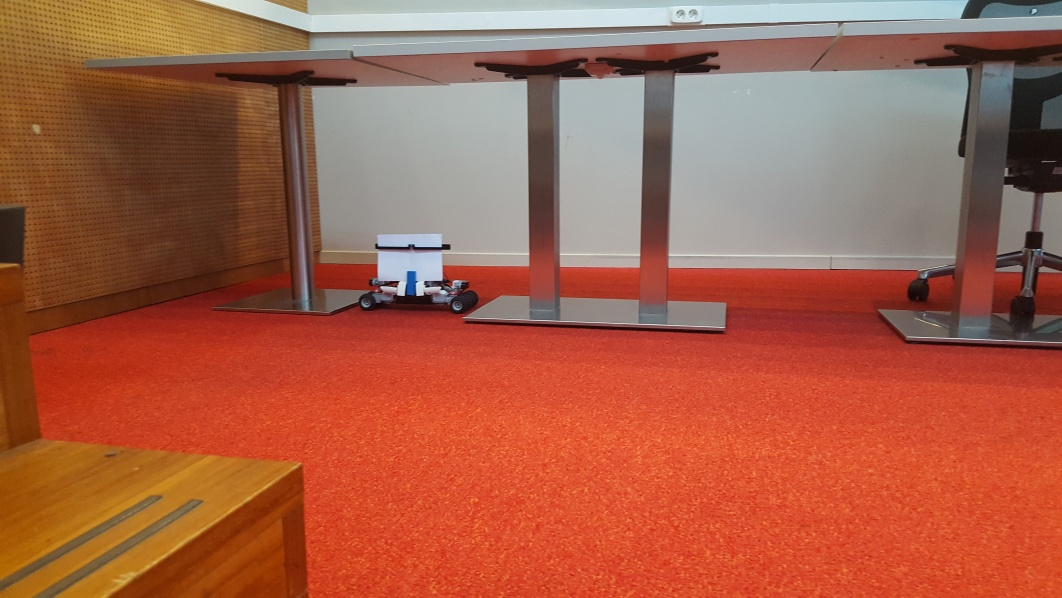car: (357, 234, 480, 318)
